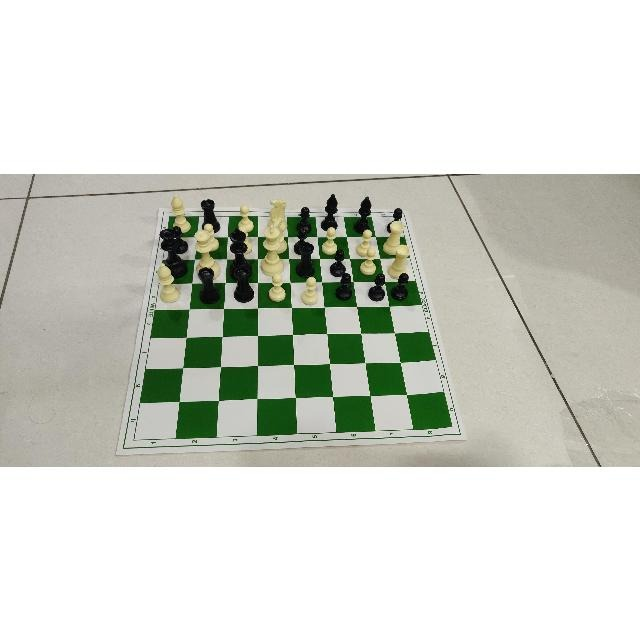black-bishop: (353, 192, 373, 233), (321, 191, 341, 231)
black-king: (228, 226, 253, 279)
black-pawn: (328, 248, 350, 276), (390, 271, 408, 302), (368, 272, 386, 302), (296, 205, 314, 235), (334, 272, 353, 300), (170, 224, 188, 253), (386, 205, 403, 233), (294, 226, 310, 254)
black-queen: (159, 226, 189, 278)
black-rook: (195, 265, 221, 304), (231, 263, 255, 302), (294, 240, 318, 278), (199, 197, 223, 232)
white-bishop: (155, 261, 182, 303), (168, 192, 191, 232)
white-king: (260, 224, 286, 276)
white-knight: (268, 216, 288, 254), (268, 197, 288, 233)
white-pawn: (199, 220, 220, 253), (300, 275, 322, 304), (266, 271, 286, 302), (358, 246, 378, 276), (234, 225, 254, 255), (354, 228, 375, 256), (320, 225, 339, 254), (236, 204, 255, 232)
white-queen: (193, 227, 221, 280)
white-rook: (384, 243, 411, 281), (381, 219, 406, 254)
